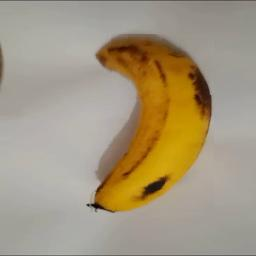Banana Semifresh: (85, 34, 214, 218)
